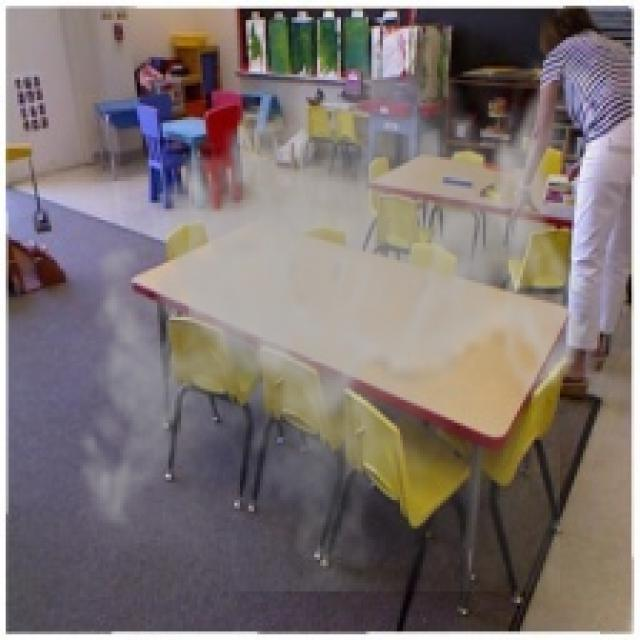Smoke: (62, 29, 594, 592)
